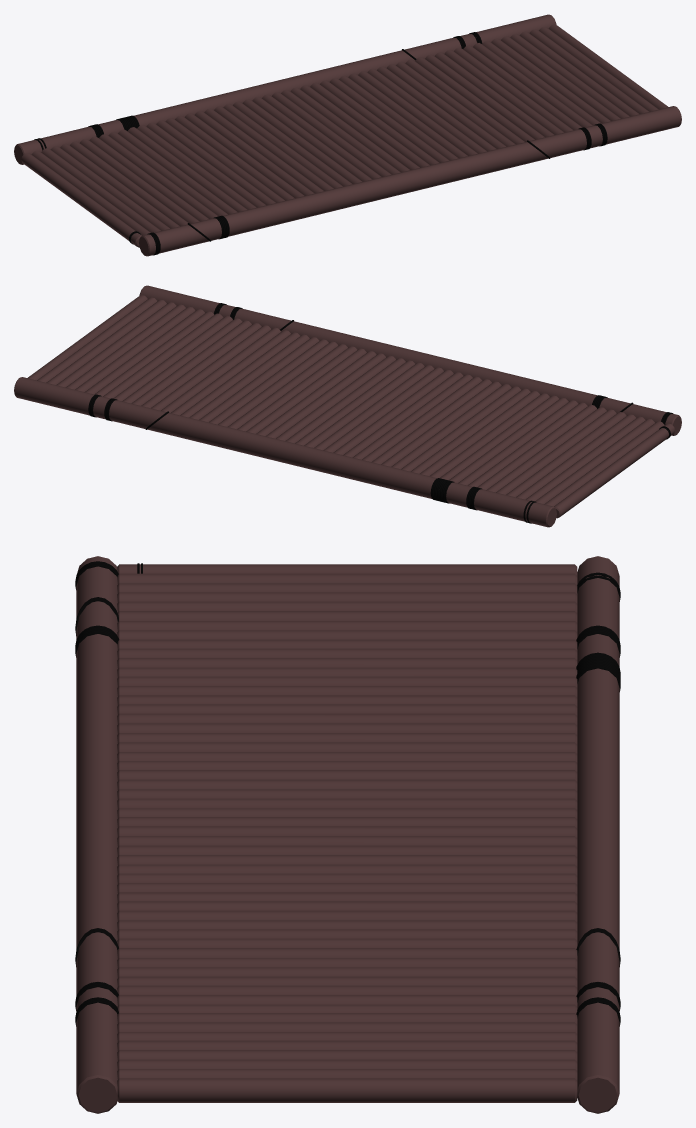
The model's file is Bridge.fbx.
3 views of the same model, one above another, from view 1: azimuth 30°, elevation 25°; view 2: azimuth 150°, elevation 25°; view 3: azimuth 270°, elevation 25° (orthographic). The views are drawn at different scales.
Parts seen in each view (by area): view 1: LargeLog, LargeLog2, Log, Log99, Log77, Log89, Log61, Log76, Log94, Log103, Log69, Log97 (+46 smaller); view 2: LargeLog2, LargeLog, Log, Log99, Log89, Log61, Log77, Log69, Log83, Log94, Log102, Log109 (+46 smaller); view 3: LargeLog2, LargeLog, Log109, Log71, Log72, Log87, Log96, Log56, Log86, Log80, Log92, Log67 (+46 smaller).
Boxes of the visible parts, x1,y1,x2,y2 form: LargeLog: (139, 106, 681, 256); LargeLog2: (14, 14, 556, 164); Log: (21, 153, 141, 247); Log99: (425, 54, 544, 139); Log77: (195, 110, 314, 195); Log89: (310, 82, 429, 167); Log61: (80, 139, 199, 223); Log76: (156, 120, 275, 205); Log94: (444, 49, 564, 134); Log103: (529, 29, 649, 113); Log69: (214, 106, 333, 190); Log97: (387, 64, 506, 148); LargeLog2: (14, 377, 556, 527); LargeLog: (139, 285, 681, 435); Log: (554, 423, 674, 518); Log99: (151, 325, 271, 410); Log89: (266, 353, 385, 438); Log61: (496, 409, 616, 494); Log77: (381, 381, 501, 466); Log69: (362, 376, 482, 461); Log83: (218, 341, 338, 426); Log94: (131, 320, 251, 405); Log102: (103, 313, 223, 398); Log109: (27, 295, 147, 380); LargeLog2: (577, 556, 619, 1113); LargeLog: (76, 556, 117, 1113); Log109: (117, 1078, 577, 1102); Log71: (117, 779, 577, 791); Log72: (117, 713, 577, 725); Log87: (117, 798, 577, 810); Log96: (117, 910, 577, 922); Log56: (117, 573, 577, 584); Log86: (117, 836, 577, 847); Log80: (117, 855, 577, 866); Log92: (117, 995, 577, 1006); Log67: (117, 770, 577, 781).
Size of the model in its own units: 57.67 by 2.23 by 25.32.
